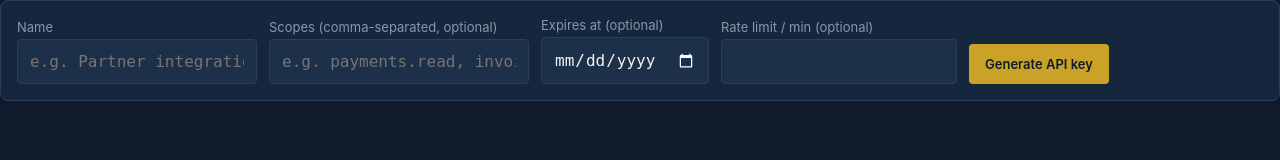
Test case: GenerateApiKeyForm › falls back to a generic error message when the action fails without one, and also when ok but no plaintextKey is returned
This screenshot has width=1280, height=160.
In the field labelled "Name": (137, 62) left=17, top=39, right=257, bottom=84, type "Reporting bot"
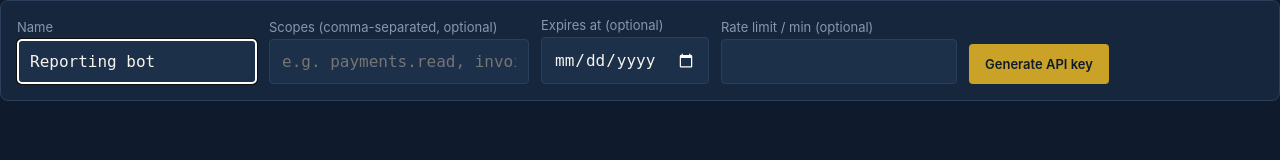
Click the button "Generate API key": (1039, 64) left=969, top=44, right=1109, bottom=84
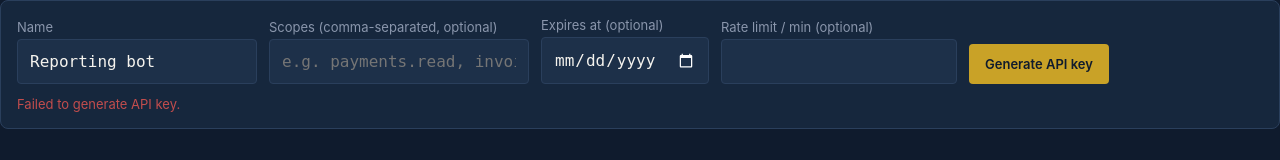
Result: the text "Failed to generate API key." is shown at left=17, top=96, right=180, bottom=112
